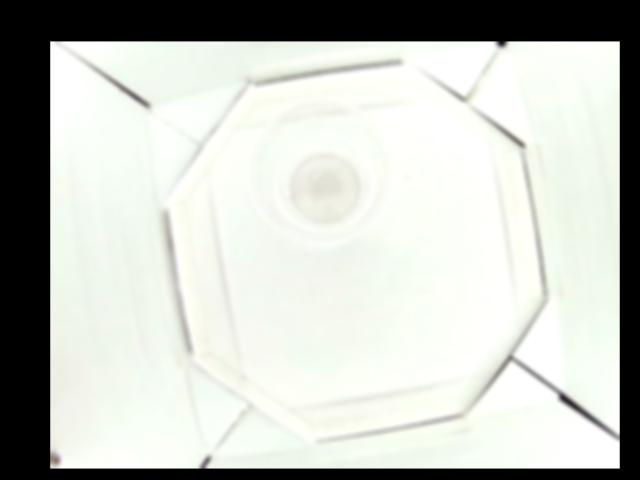Cup: (247, 98, 397, 246)
